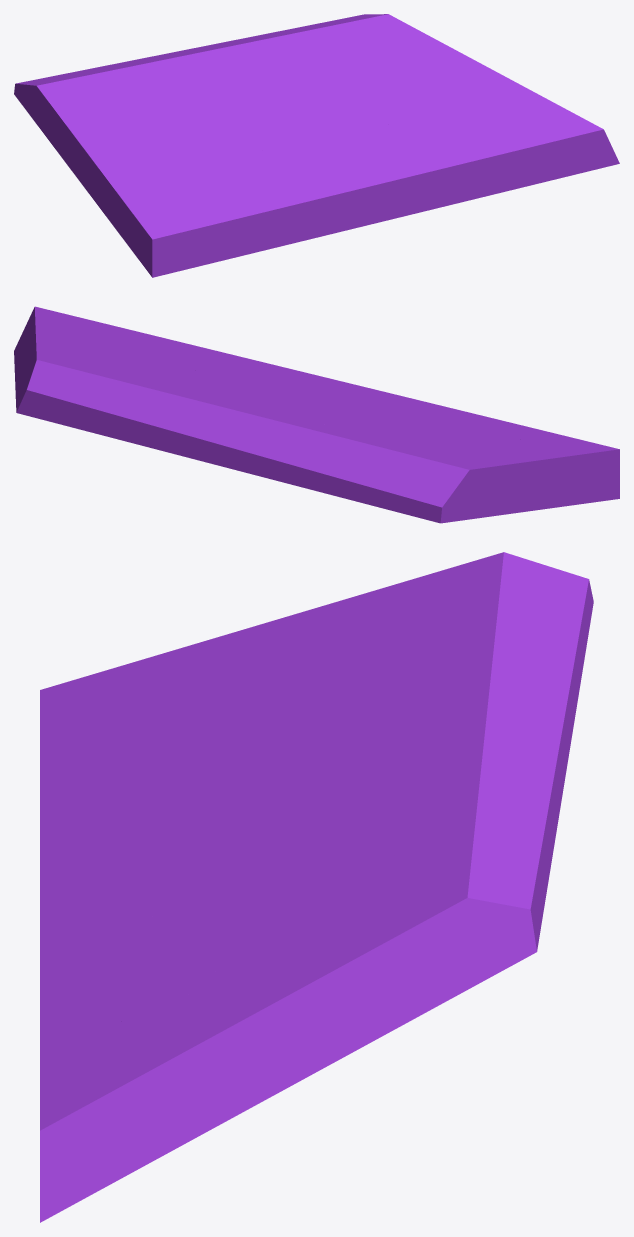
Rendered from Window_147_0_chunks.fbx.
3 views of the same model, one above another, from view 1: azimuth 30°, elevation 25°; view 2: azimuth 150°, elevation 25°; view 3: azimuth 270°, elevation 25° (orthographic). The views are drawn at different scales.
Parts seen in each view (by area): view 1: Window_147_0_8, Window_147_0_0, Window_147_0_6, Window_147_0_11, Window_147_0_9, Window_147_0_24, Window_147_0_19, Window_147_0_4, Window_147_0_12, Window_147_0_22, Window_147_0_3, Window_147_0_17 (+9 smaller); view 2: Window_147_0_6, Window_147_0_1, Window_147_0_4, Window_147_0_0, Window_147_0_8, Window_147_0_22, Window_147_0_24, Window_147_0_7, Window_147_0_19, Window_147_0_2, Window_147_0_21, Window_147_0_12 (+6 smaller); view 3: Window_147_0_6, Window_147_0_0, Window_147_0_8, Window_147_0_4, Window_147_0_19, Window_147_0_2, Window_147_0_1, Window_147_0_20, Window_147_0_24, Window_147_0_17, Window_147_0_3, Window_147_0_12 (+8 smaller).
Part boxes in pixels (box(x1,y1,x2,y2)): Window_147_0_8: box(166, 110, 277, 265); Window_147_0_0: box(256, 81, 383, 220); Window_147_0_6: box(14, 56, 200, 138); Window_147_0_11: box(410, 141, 582, 214); Window_147_0_9: box(326, 135, 424, 235); Window_147_0_24: box(96, 157, 181, 252); Window_147_0_19: box(478, 83, 608, 145); Window_147_0_4: box(278, 14, 433, 56); Window_147_0_12: box(389, 130, 573, 168); Window_147_0_22: box(39, 126, 152, 206); Window_147_0_3: box(241, 46, 377, 88); Window_147_0_17: box(374, 94, 506, 135); Window_147_0_6: box(292, 424, 512, 523); Window_147_0_1: box(114, 390, 277, 477); Window_147_0_4: box(16, 348, 171, 438); Window_147_0_0: box(154, 367, 467, 412); Window_147_0_8: box(313, 406, 587, 441); Window_147_0_22: box(453, 440, 554, 518); Window_147_0_24: box(487, 438, 619, 494); Window_147_0_7: box(265, 405, 366, 489); Window_147_0_19: box(15, 306, 130, 383); Window_147_0_2: box(15, 337, 157, 404); Window_147_0_21: box(550, 466, 619, 508); Window_147_0_12: box(84, 318, 258, 370); Window_147_0_6: box(287, 552, 593, 721); Window_147_0_0: box(40, 774, 360, 901); Window_147_0_8: box(40, 690, 332, 804); Window_147_0_4: box(378, 796, 549, 984); Window_147_0_19: box(40, 1000, 307, 1161); Window_147_0_2: box(290, 866, 476, 1055); Window_147_0_1: box(391, 705, 570, 870); Window_147_0_20: box(182, 933, 347, 1076); Window_147_0_24: box(40, 622, 266, 713); Window_147_0_17: box(84, 896, 237, 1033); Window_147_0_3: box(302, 758, 444, 895); Window_147_0_12: box(40, 914, 167, 1094).
Bounding box in the file's own units: 1282 × 281 × 657.
